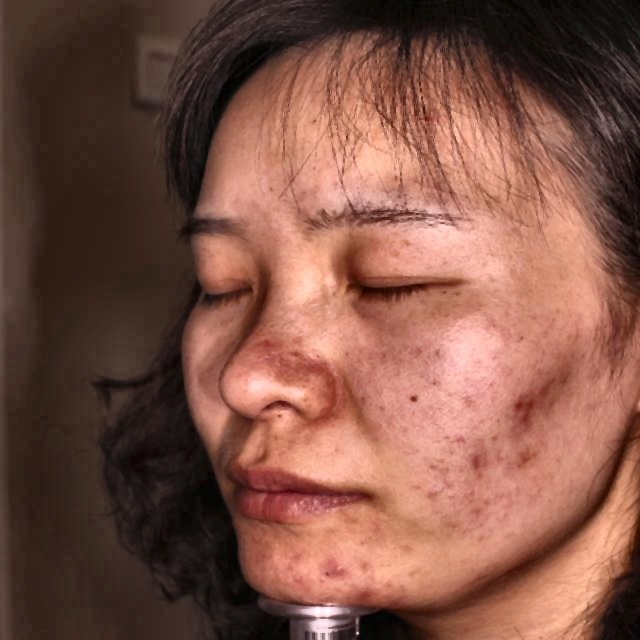pustule: (465, 450, 495, 480), (516, 392, 550, 416), (253, 333, 276, 357), (330, 556, 350, 581), (284, 540, 308, 559), (360, 583, 385, 601), (348, 556, 374, 570), (292, 572, 314, 587), (517, 442, 536, 458)
